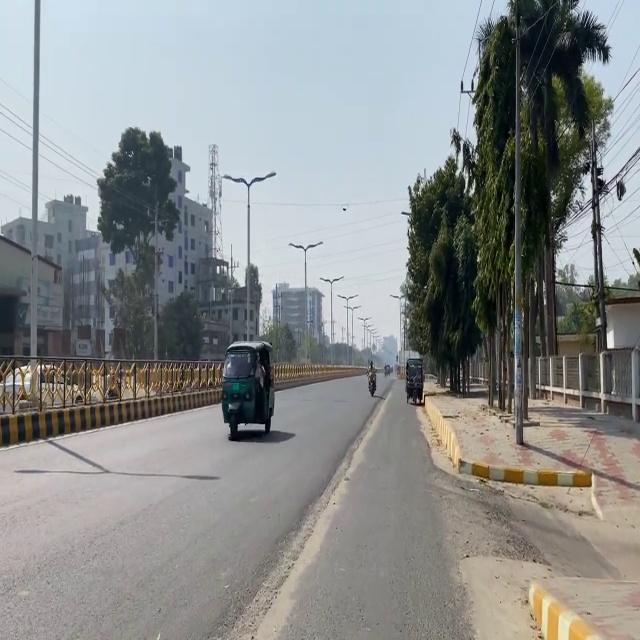Construction-barrier: (458, 554, 638, 639), (0, 385, 221, 448), (458, 459, 592, 487), (273, 365, 367, 391)
Fallen-tree: (365, 369, 377, 396), (383, 363, 390, 376)
Light-pole: (511, 0, 525, 445)
Pothole: (419, 376, 639, 638)
Traffic-cone: (220, 340, 275, 440), (404, 357, 424, 405)
